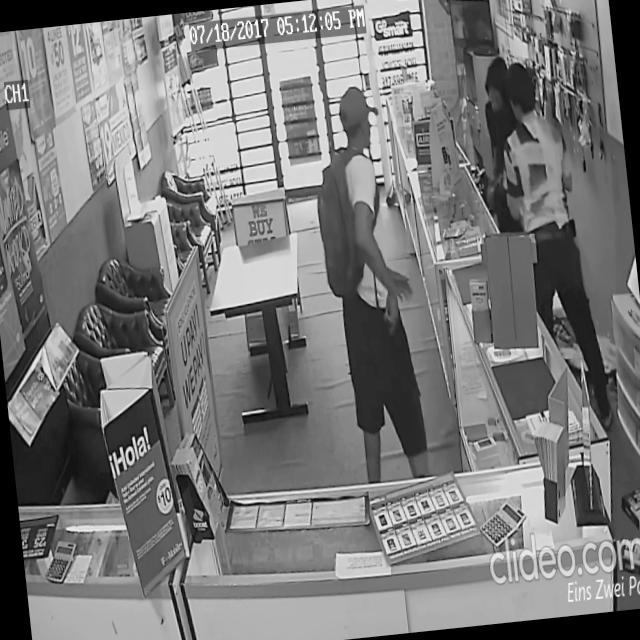gun: (380, 300, 406, 361)
person: (490, 52, 620, 442), (471, 48, 565, 379)
person with a gun: (305, 79, 434, 484)
